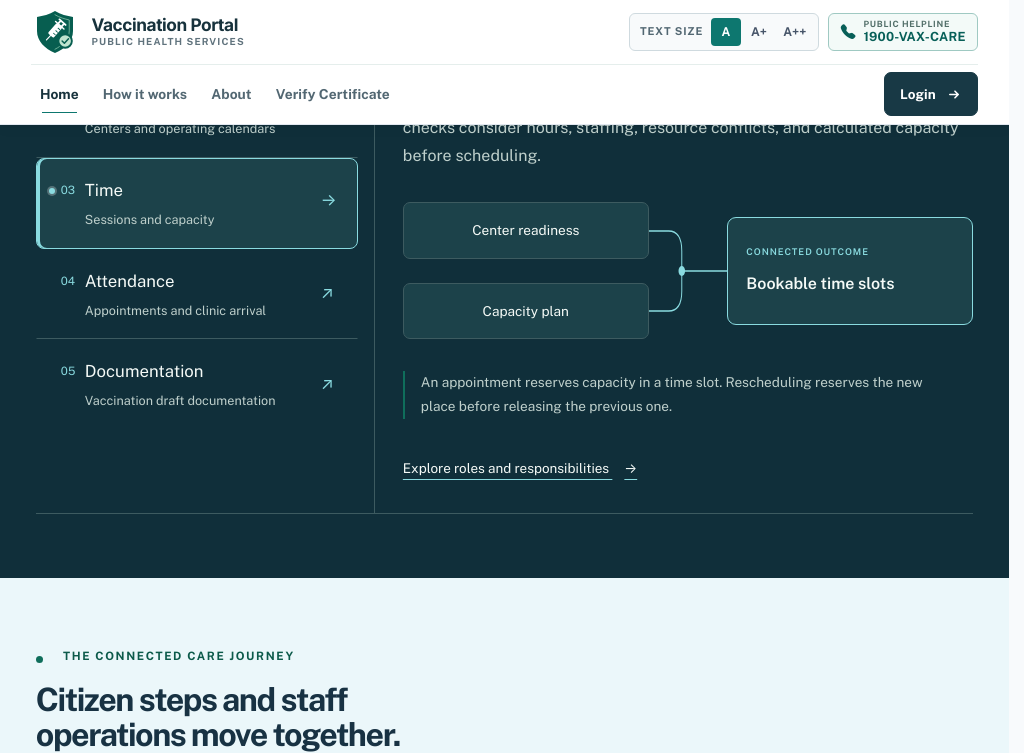
Test: LandingPage › explains the selected capability and updates its connected outcome
(page scrolled)
Check: the heading "Sessions and capacity" is shown, box [403,38,649,68]
Check: the text "Bookable time slots" is shown, box [746,274,894,293]
Click the button "05 Documentation Vaccination draft documentation ↗".
click(144, 371)  # box [36,340,358,430]
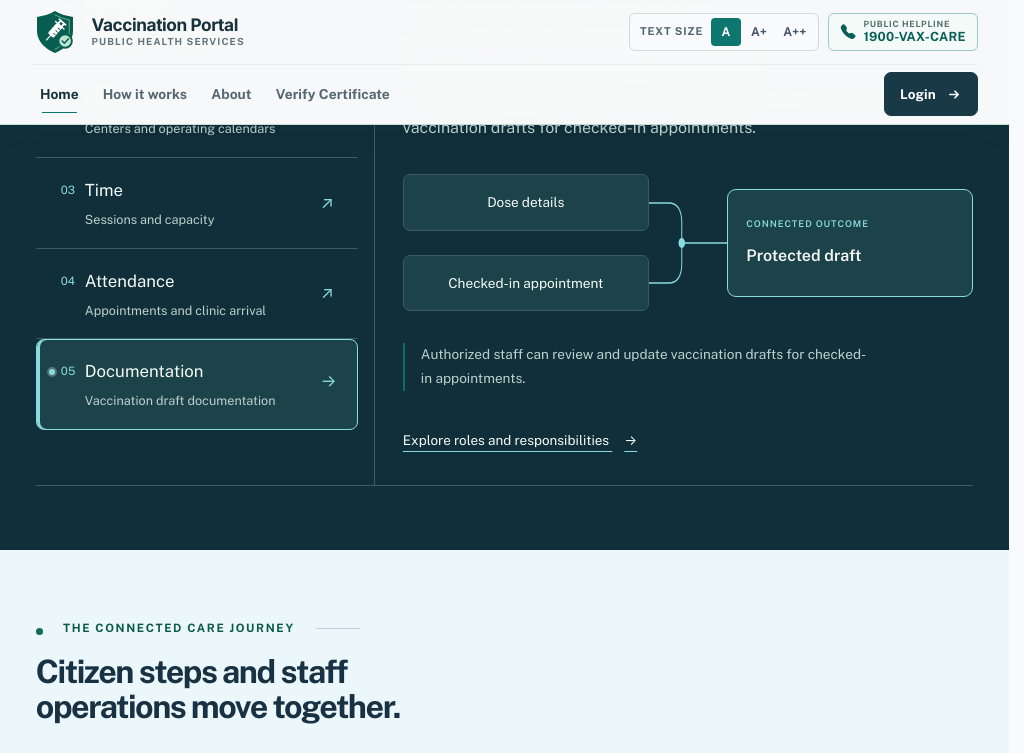
Check: the heading "Vaccination draft documentation" is shown, box [403,38,765,68]
Check: the text "Protected draft" is shown, box [746,246,861,265]
Check: the text "Bookable time slots" is gone
